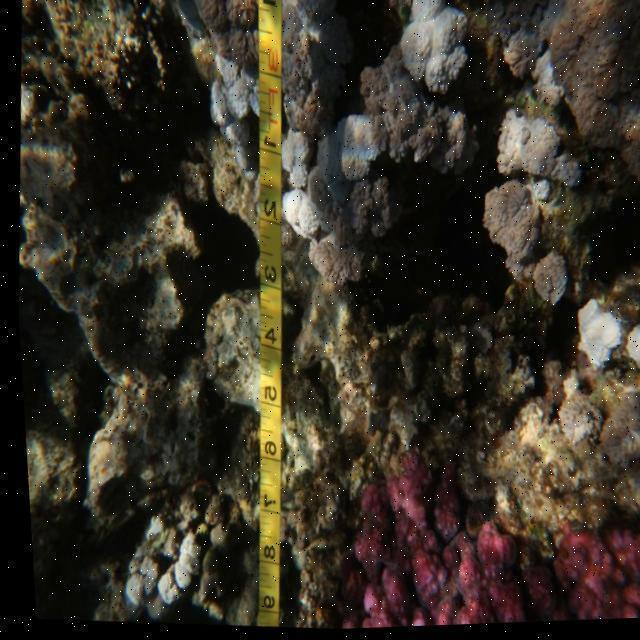Healthy Coral: (315, 441, 640, 632)
